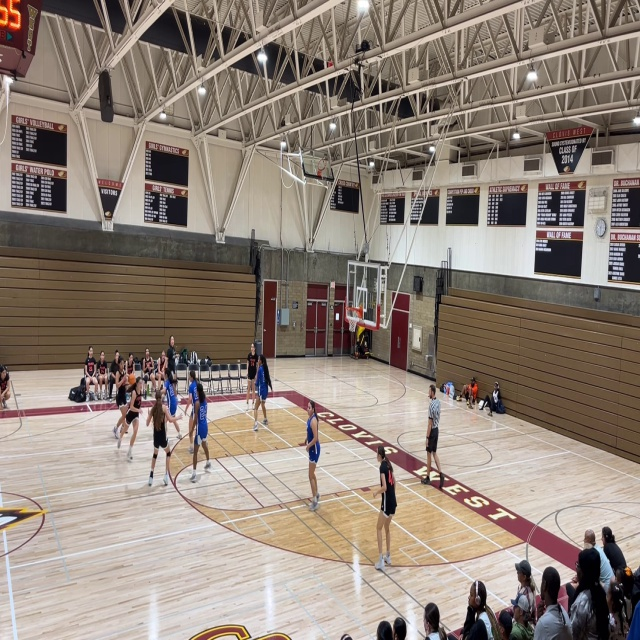Basketball: (126, 374, 136, 385)
